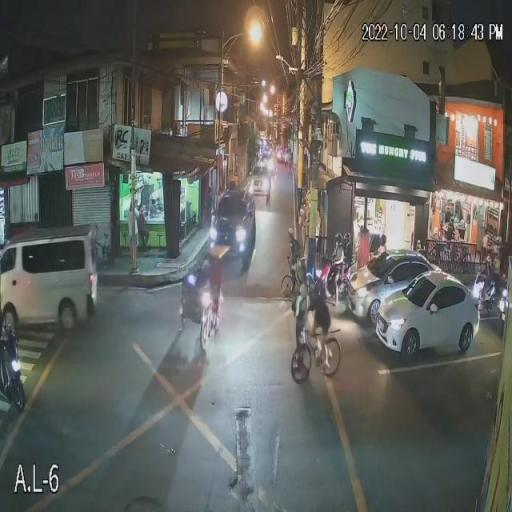helmet: (343, 231, 353, 247), (334, 233, 343, 247), (484, 256, 493, 270)
motorcycle: (0, 327, 27, 410), (471, 278, 506, 324), (308, 254, 332, 296), (330, 254, 352, 298)
rider: (198, 249, 226, 329), (178, 254, 208, 325), (307, 279, 331, 344), (478, 251, 502, 307), (292, 275, 311, 341), (287, 228, 304, 278), (329, 247, 343, 306), (342, 246, 358, 297)
